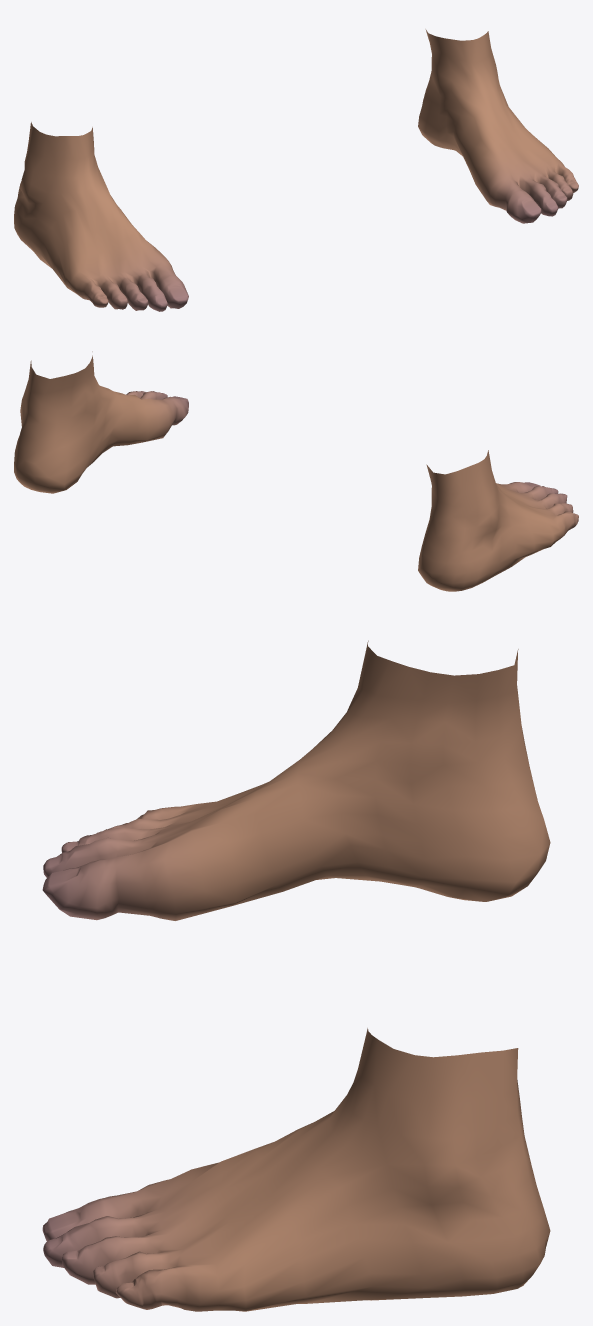
The model's file is patient-feet-surface.glb.
The picture shows the model from 3 angles, top to bottom: view 1: azimuth 30°, elevation 25°; view 2: azimuth 150°, elevation 25°; view 3: azimuth 270°, elevation 25°; orthographic projection. The views are drawn at different scales.
Parts seen in each view (by area): view 1: MakeHumanFeetSurface; view 2: MakeHumanFeetSurface; view 3: MakeHumanFeetSurface.
Part boxes in pixels (x1,y1,x2,y2): MakeHumanFeetSurface: [14, 29, 578, 311]; MakeHumanFeetSurface: [14, 351, 578, 591]; MakeHumanFeetSurface: [42, 640, 550, 1311].
Size of the model in its own units: 3.35 by 0.827 by 1.51.
